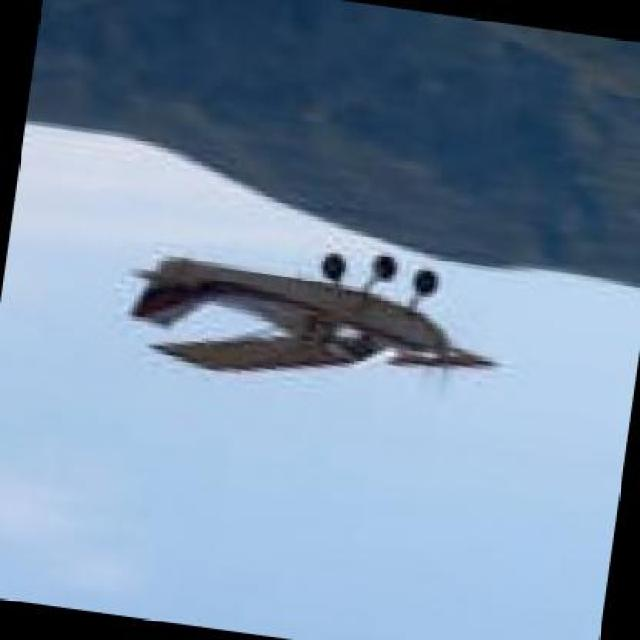iha: (123, 242, 511, 383)
